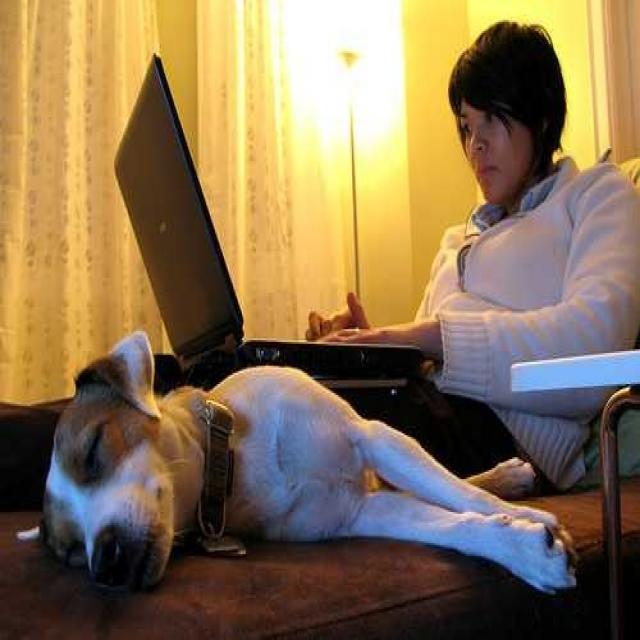laptop: (135, 77, 423, 386)
